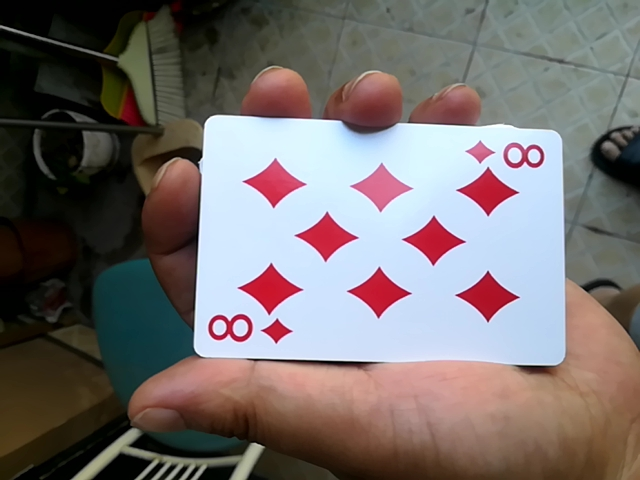fk 8: (189, 111, 575, 373)
